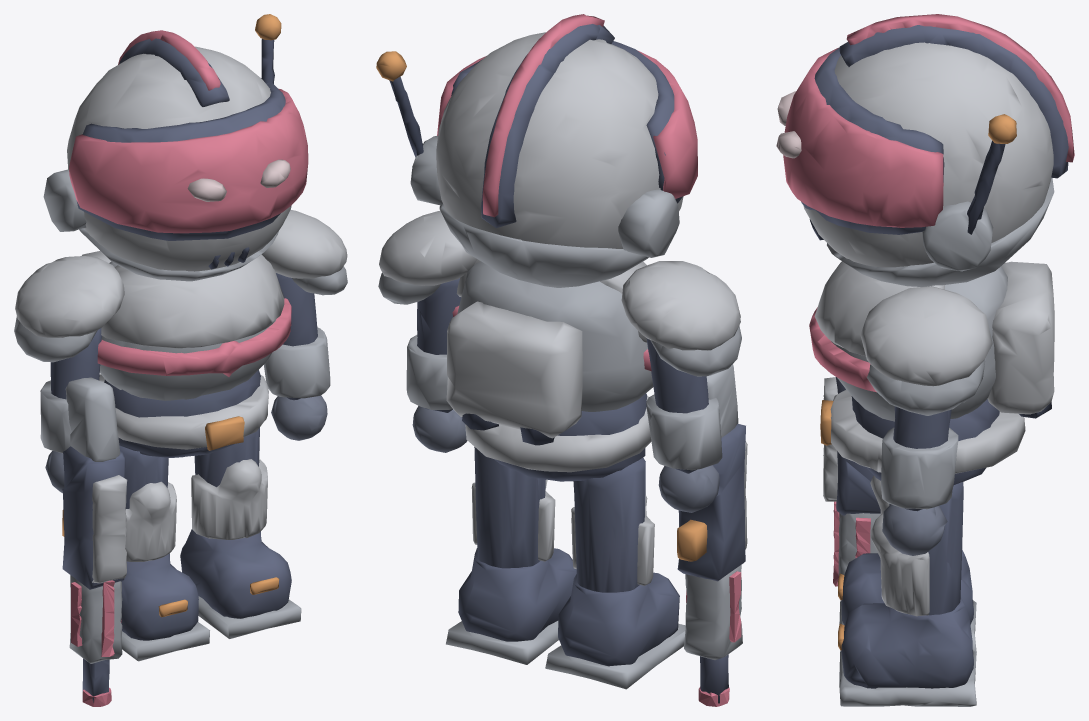
The model's file is trooper.glb.
3 renders of one model, left to right at view 1: azimuth 30°, elevation 25°; view 2: azimuth 150°, elevation 25°; view 3: azimuth 270°, elevation 25°, orthographic. The views are drawn at different scales.
Visible parts, largest first — view 1: torso, head, head_glow, leg_l, gun, leg_r, arm_l, torso_glow, arm_r, gun_glow; view 2: torso, head, leg_r, leg_l, gun, arm_r, head_glow, arm_l, gun_glow; view 3: head, torso, leg_l, head_glow, arm_l, gun, leg_r, torso_glow, gun_glow.
Part boxes in pixels (x1=…): torso: x1=14, y1=210, x2=347, y2=457; head: x1=43, y1=14, x2=291, y2=281; head_glow: x1=69, y1=30, x2=308, y2=233; leg_l: x1=180, y1=427, x2=301, y2=638; gun: x1=62, y1=377, x2=127, y2=702; leg_r: x1=119, y1=445, x2=209, y2=661; arm_l: x1=264, y1=273, x2=330, y2=440; torso_glow: x1=97, y1=298, x2=291, y2=376; arm_r: x1=40, y1=328, x2=101, y2=493; gun_glow: x1=71, y1=580, x2=121, y2=706; torso: x1=378, y1=211, x2=741, y2=481; head: x1=376, y1=24, x2=683, y2=287; leg_r: x1=545, y1=457, x2=685, y2=689; leg_l: x1=446, y1=447, x2=576, y2=664; gun: x1=677, y1=364, x2=747, y2=703; arm_r: x1=646, y1=338, x2=722, y2=512; head_glow: x1=437, y1=14, x2=697, y2=217; arm_l: x1=406, y1=278, x2=467, y2=452; gun_glow: x1=686, y1=571, x2=741, y2=706; head: x1=801, y1=25, x2=1068, y2=286; torso: x1=814, y1=261, x2=1054, y2=484; leg_l: x1=838, y1=482, x2=976, y2=706; head_glow: x1=776, y1=14, x2=1074, y2=227; arm_l: x1=881, y1=406, x2=958, y2=555; gun: x1=823, y1=377, x2=880, y2=575; leg_r: x1=838, y1=475, x2=976, y2=652; torso_glow: x1=809, y1=307, x2=876, y2=392; gun_glow: x1=833, y1=501, x2=870, y2=586.
Bounding box in the file's own units: 0.6993 × 1.29 × 0.5065.
